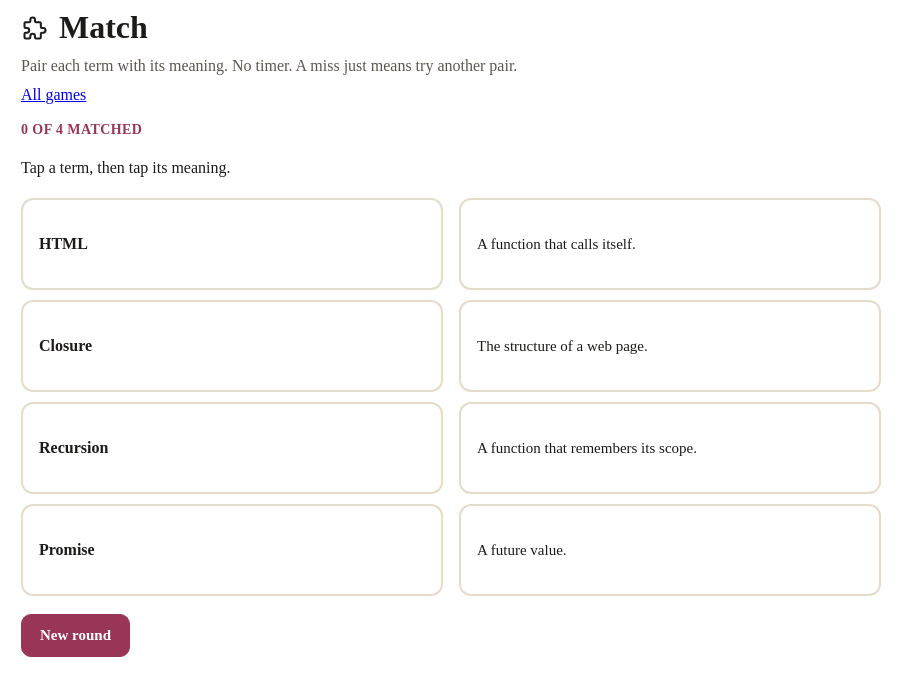
Test: MatchPage › starts a new round from New round without finishing first
Step 1. Click the button with aria-label "Term: Recursion" → (74, 448), box [21,402,443,494]
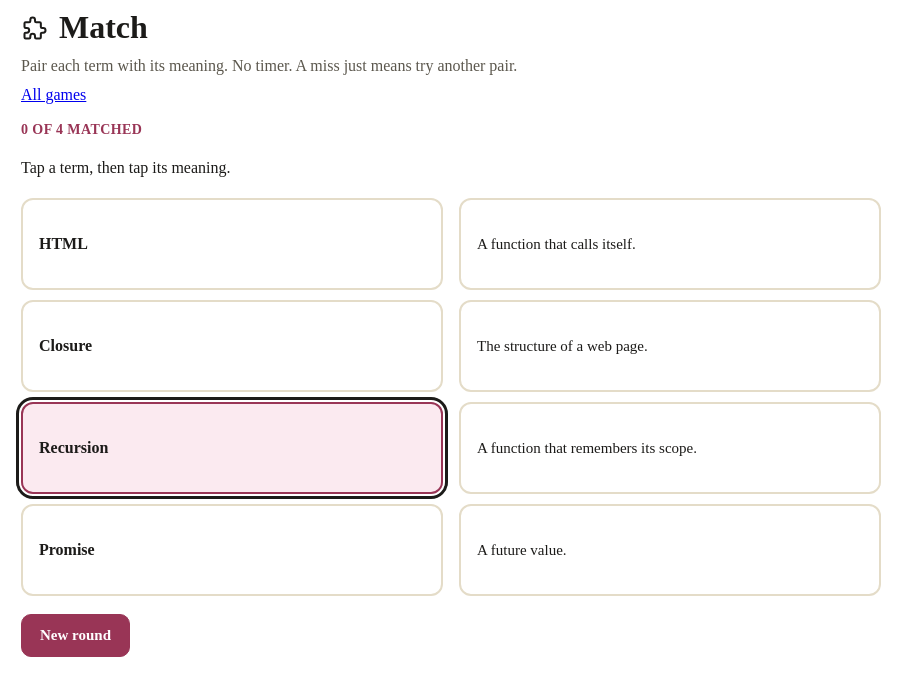
Step 2. Click the button with aria-label "Meaning: A function that calls itself." → (556, 244), box [459,198,881,290]
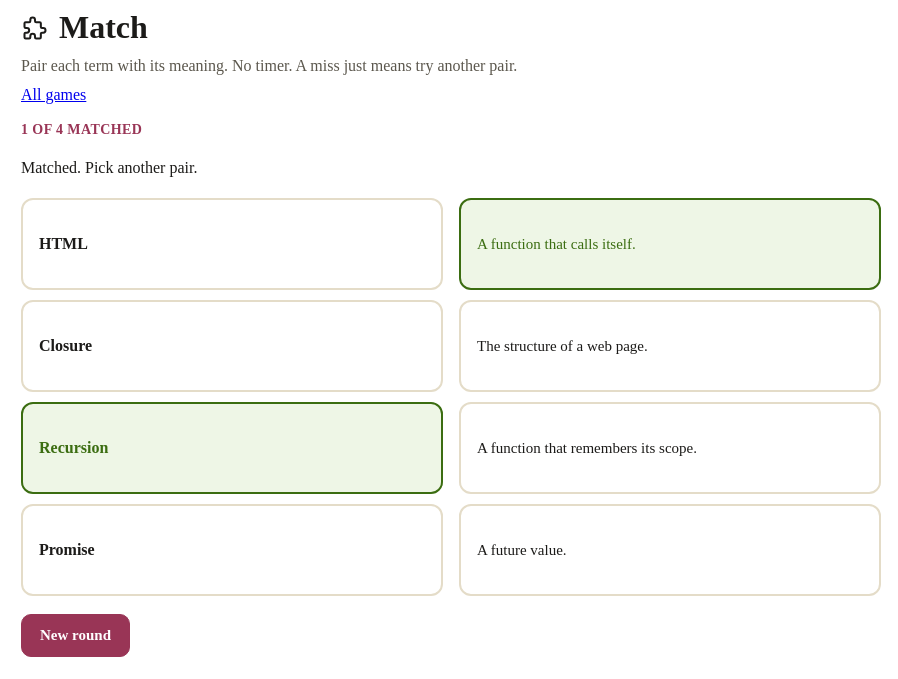
Expected: the text "1 of 4 matched" is shown, [21,122,142,137]
Step 3. Click the button "New round" → (76, 636), box [21,614,130,657]
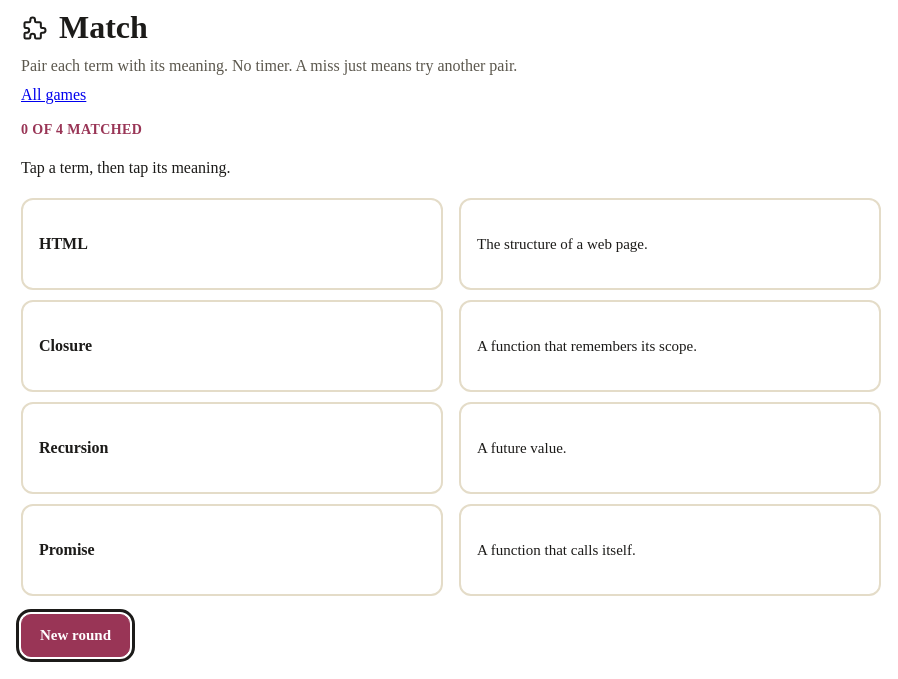
Expected: the text "0 of 4 matched" is shown, [21,122,142,137]
Expected: the button with aria-label "Term: Recursion" is enabled, [21,402,443,494]
